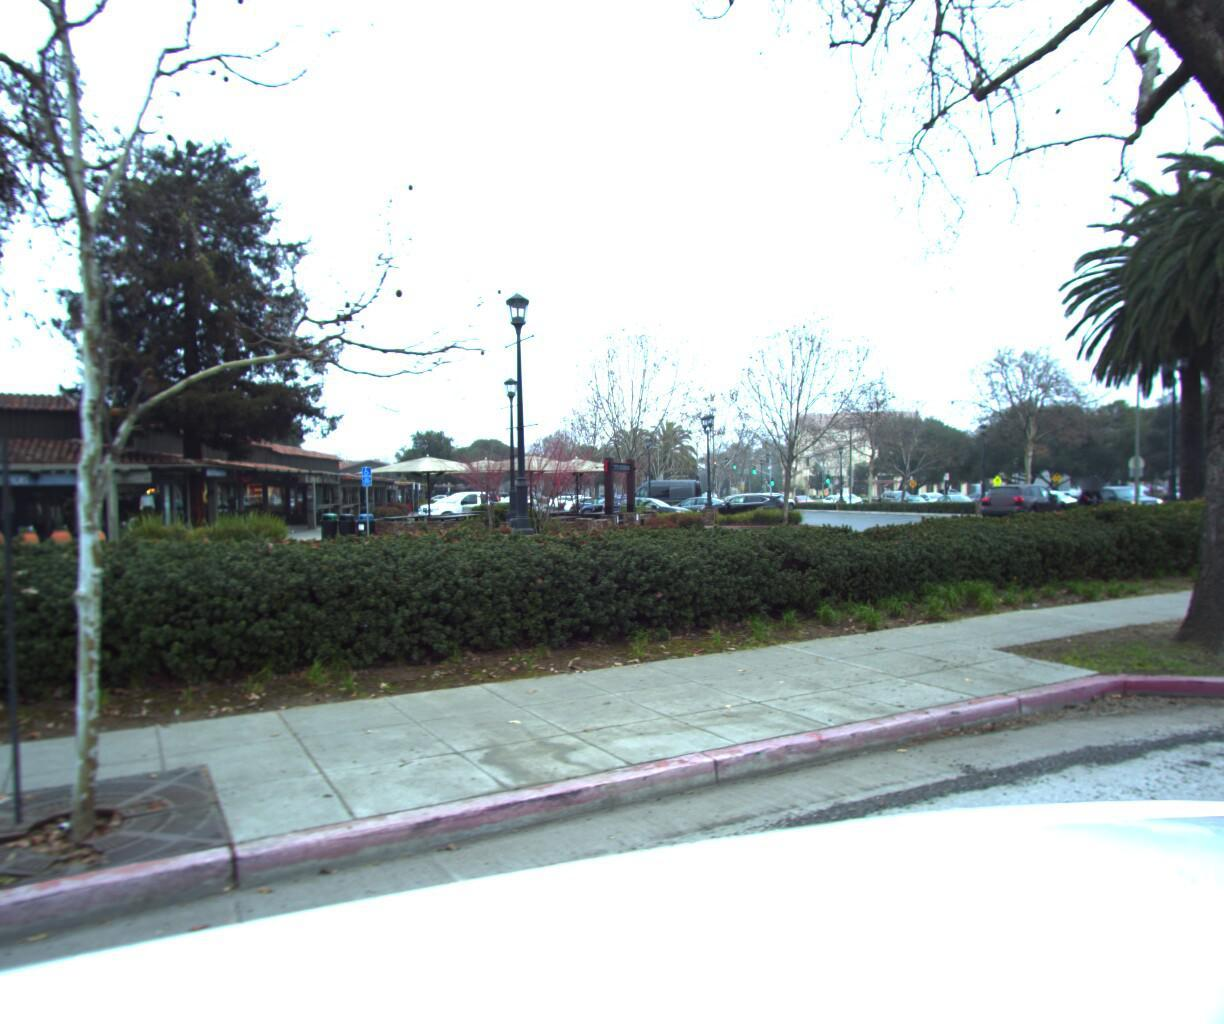bicycle: (1069, 467, 1120, 532)
car: (978, 476, 1075, 523), (1073, 479, 1176, 520), (748, 486, 800, 510)
